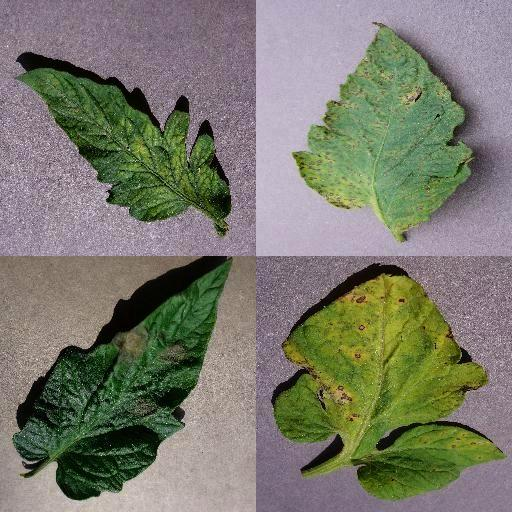Late Blight: (9, 258, 233, 500)
Mosaic Virus: (14, 66, 234, 226)
Septoria: (294, 23, 478, 233), (273, 273, 488, 445), (357, 423, 507, 503)
